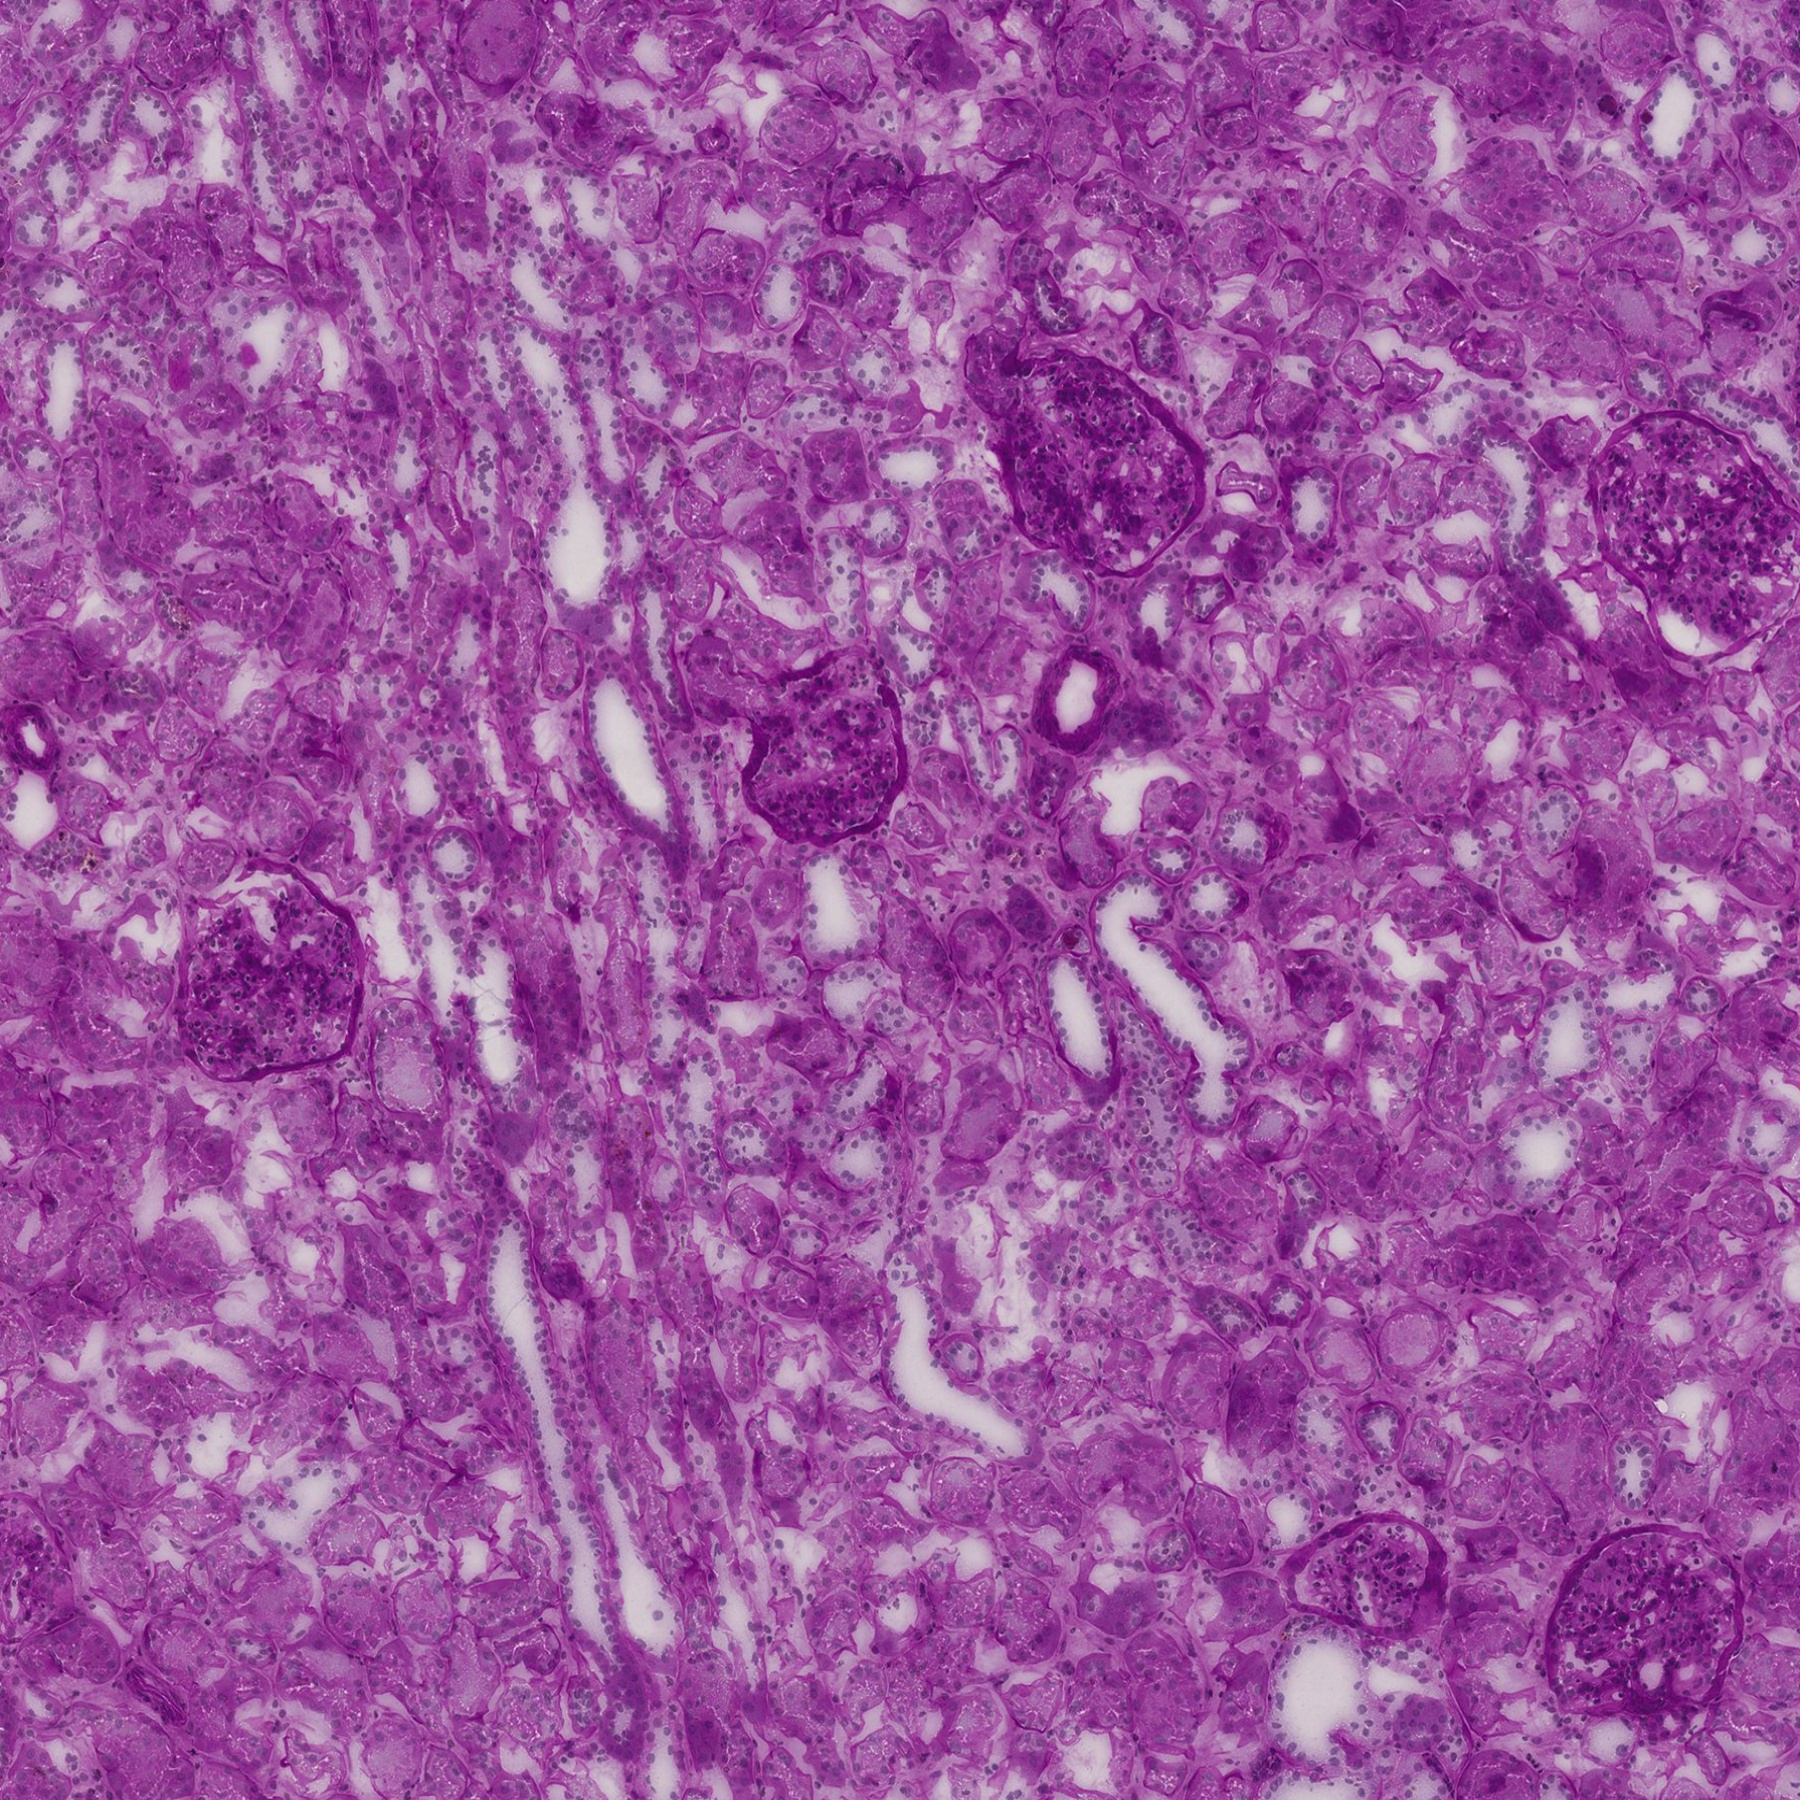Glomeruli: (1586, 407, 1797, 668), (991, 345, 1218, 579), (1540, 1523, 1749, 1759), (176, 859, 366, 1088), (738, 641, 916, 851), (1286, 1508, 1437, 1640)
